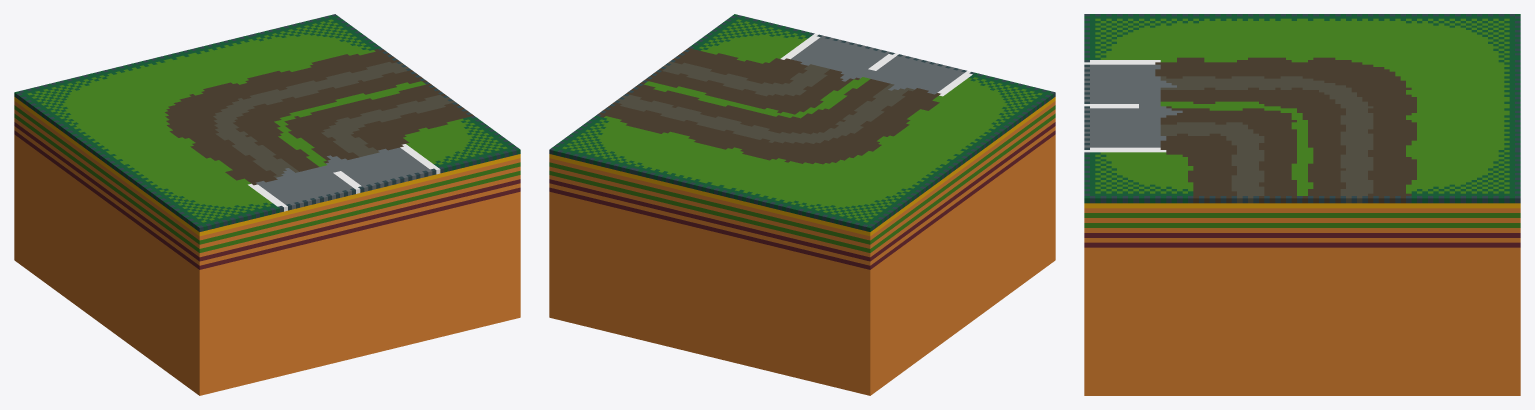
Rendered from road_transition_2_tile.obj.
The picture shows the model from 3 angles, left to right: view 1: azimuth 30°, elevation 25°; view 2: azimuth 150°, elevation 25°; view 3: azimuth 270°, elevation 25°; orthographic projection. The views are drawn at different scales.
Bounding box in the file's own units: 8 × 4 × 8.
1 material, 1 textured.
